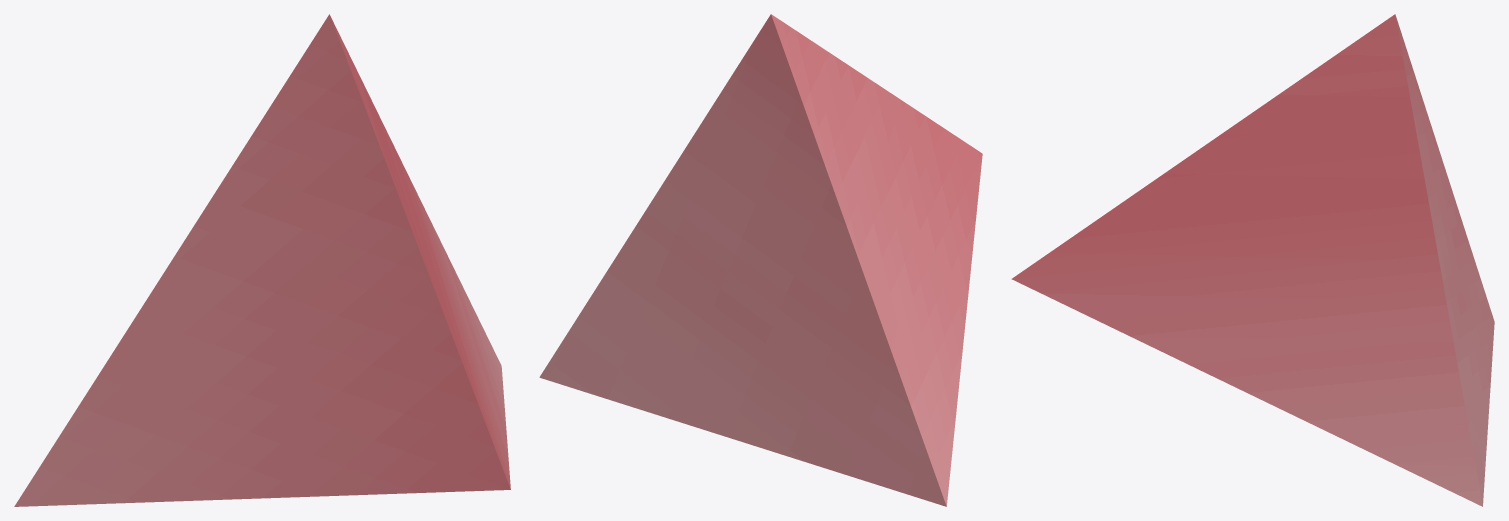
File: Bullet_Cuball.glb
The picture shows the model from 3 angles, left to right: view 1: azimuth 30°, elevation 25°; view 2: azimuth 150°, elevation 25°; view 3: azimuth 270°, elevation 25°; orthographic projection. The views are drawn at different scales.
Visible parts, largest first — view 1: Sphere, Sphere.001; view 2: Sphere, Sphere.001; view 3: Sphere.
Boxes of the visible parts, box(x1,y1,x2,y2) form: Sphere: box(14, 14, 509, 506); Sphere.001: box(271, 16, 510, 496); Sphere: box(539, 14, 952, 506); Sphere.001: box(756, 18, 982, 500); Sphere: box(1011, 14, 1494, 506).
Size of the model in its own units: 1.59 by 1.48 by 1.54.
2 materials, 2 textured.
